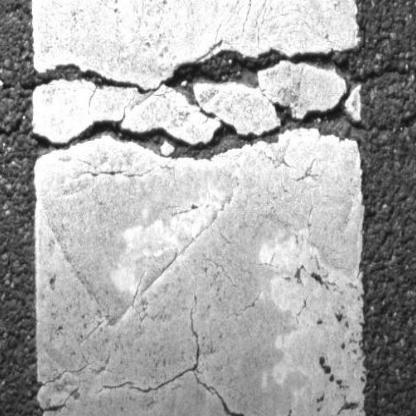Cracks: (31, 102, 416, 157), (0, 49, 416, 98), (0, 101, 37, 155)
